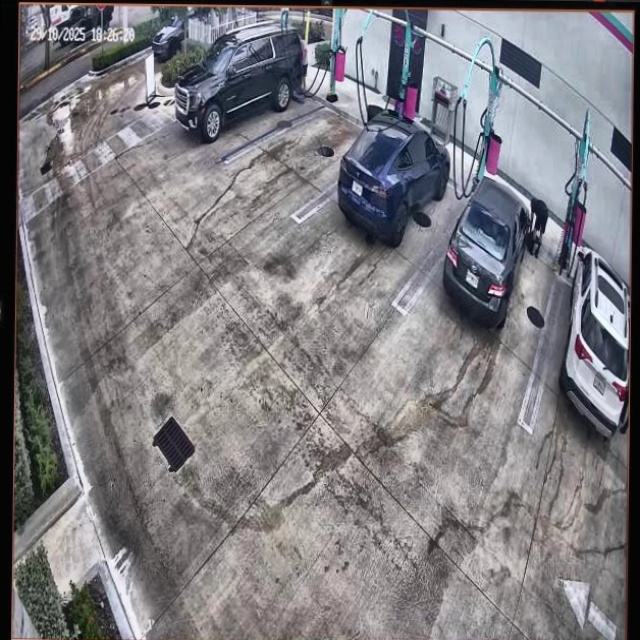Car: (336, 110, 451, 240), (445, 174, 532, 324)
